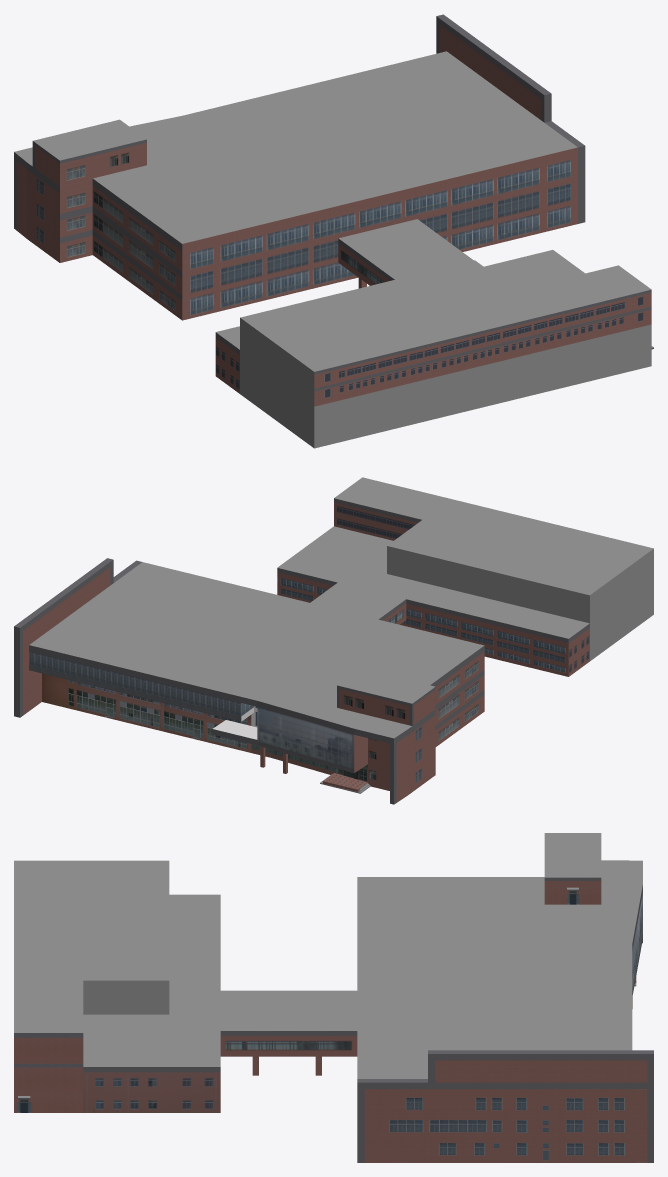
The model's file is side building13.FBX.
The picture shows the model from 3 angles, top to bottom: view 1: azimuth 30°, elevation 25°; view 2: azimuth 150°, elevation 25°; view 3: azimuth 270°, elevation 25°; orthographic projection. The views are drawn at different scales.
Parts seen in each view (by area): view 1: 金花企业股份有限公司A; view 2: 金花企业股份有限公司A; view 3: 金花企业股份有限公司A.
Part boxes in pixels (left/top/right/bottom): 金花企业股份有限公司A: left=14, top=14, right=653, bottom=448; 金花企业股份有限公司A: left=14, top=477, right=653, bottom=804; 金花企业股份有限公司A: left=14, top=833, right=653, bottom=1162.
Bounding box in the file's own units: 83.34 × 101 × 19.02.
